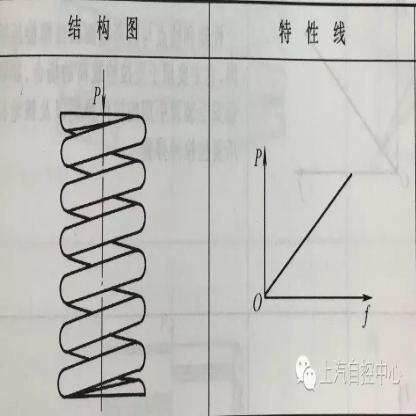FOD: (56, 107, 149, 409)
